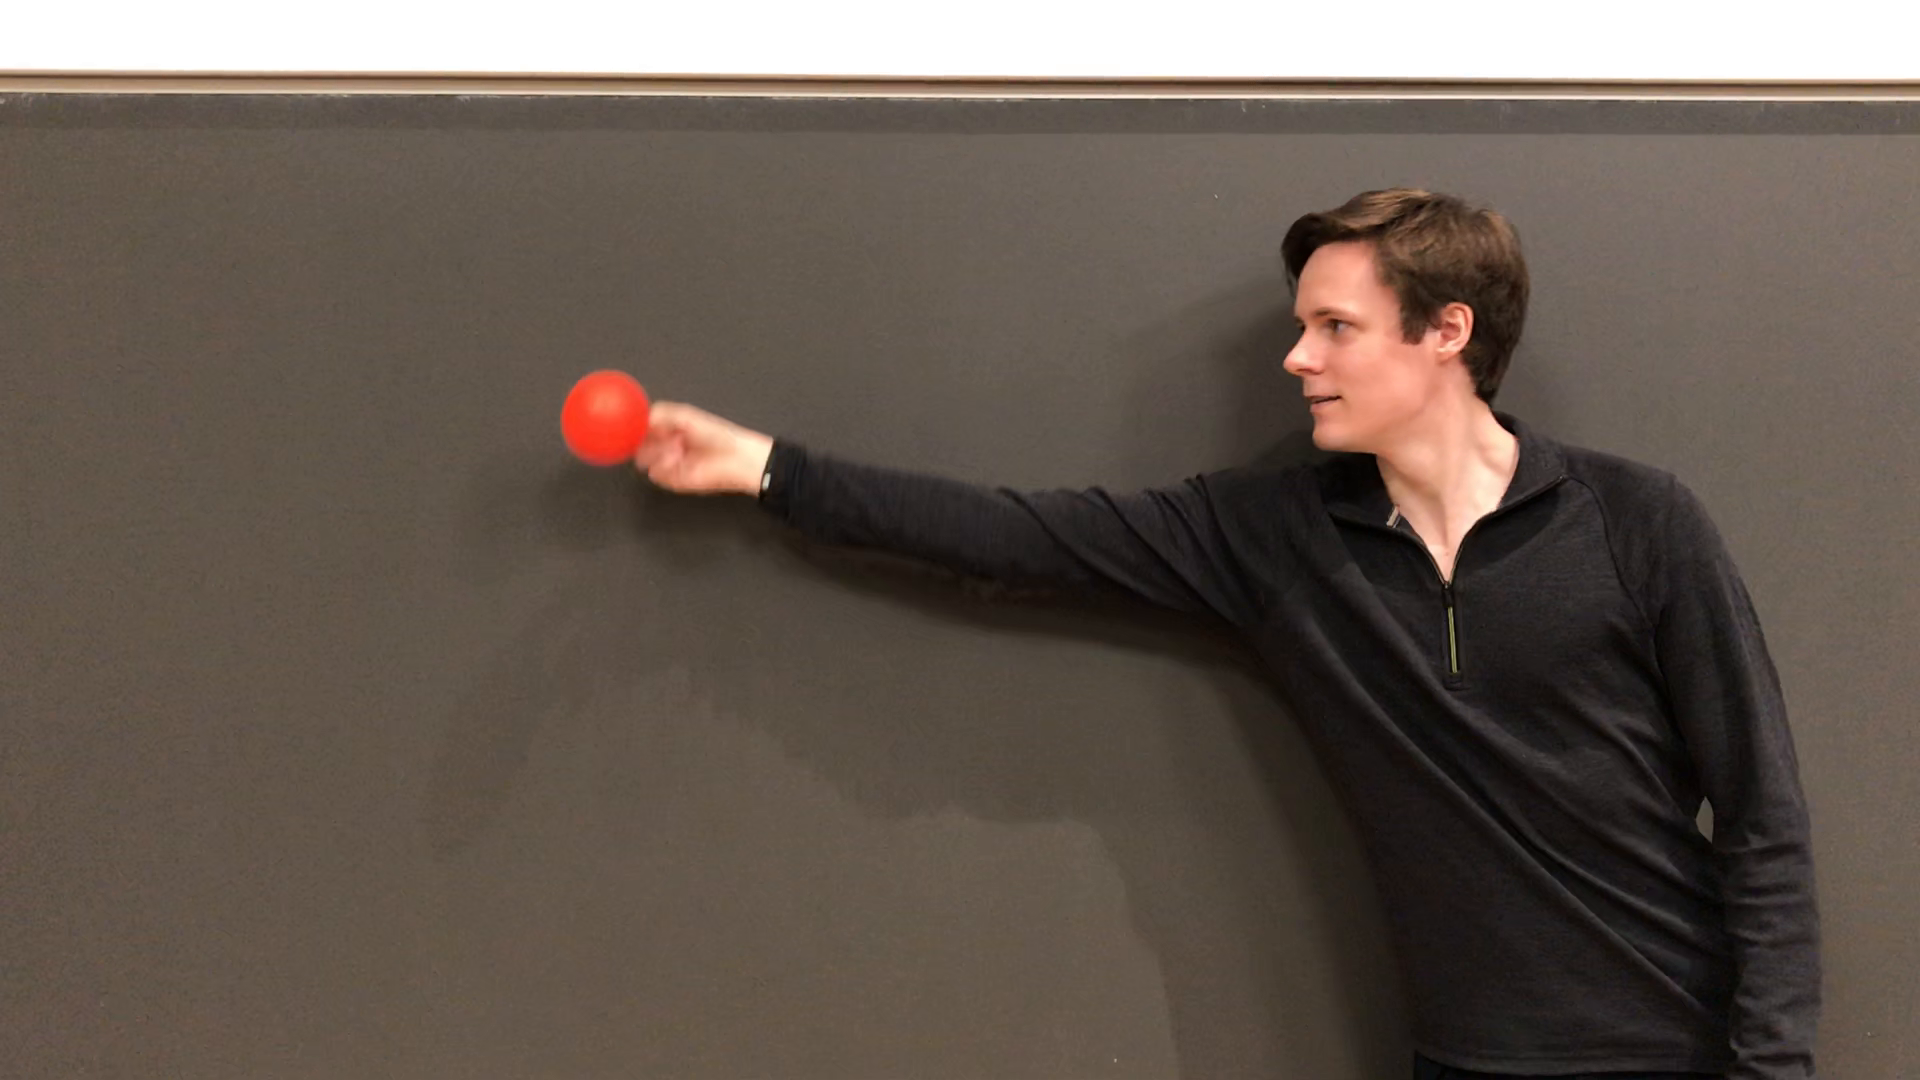Ball: (556, 369, 657, 473)
